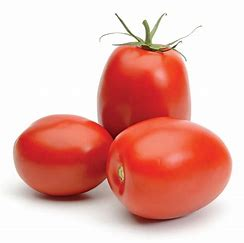Tomato: (98, 114, 235, 227), (92, 12, 203, 141), (12, 114, 116, 205)
